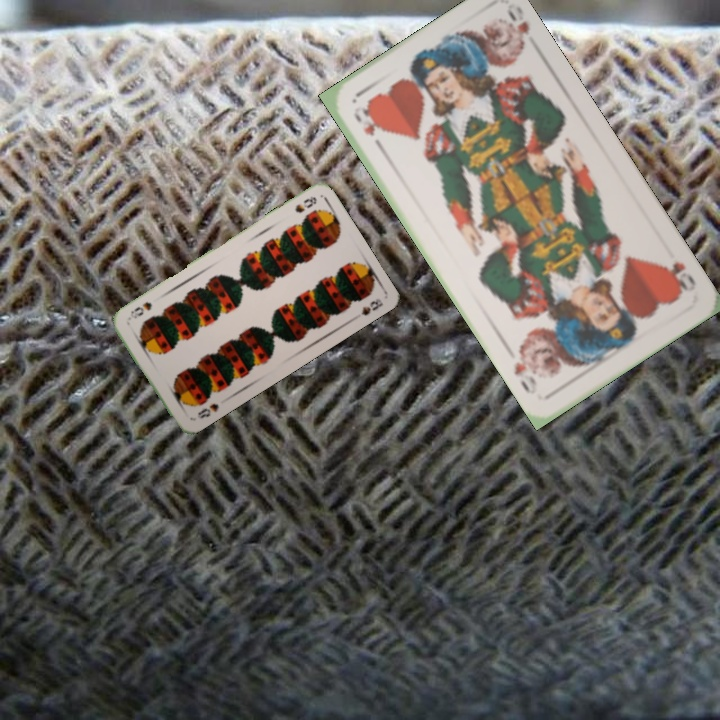HO: (349, 102, 387, 154), (660, 257, 699, 296)
S8: (291, 192, 319, 216), (193, 399, 221, 421)
